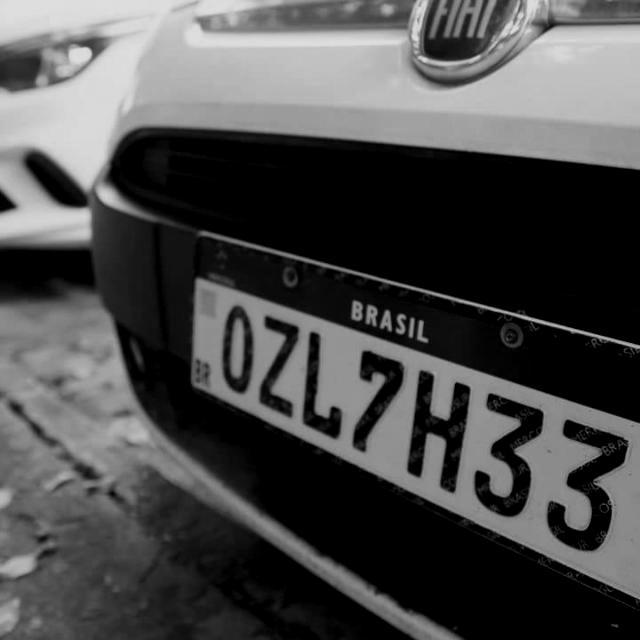placa_mercosul: (188, 232, 639, 600)
